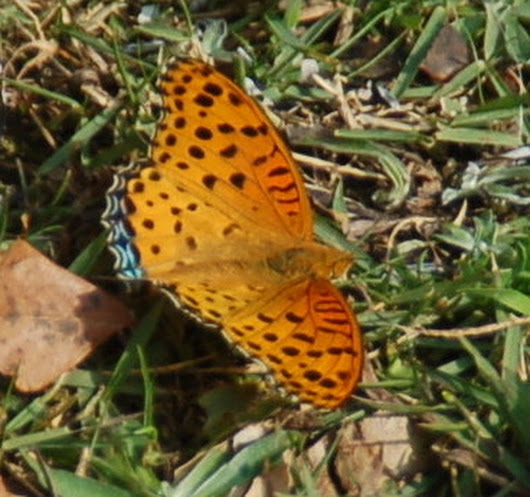Argyreus hyperbius: (98, 48, 374, 412)
butterfly: (100, 50, 376, 414)
